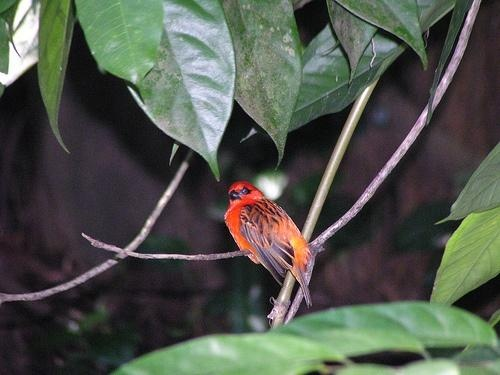bird: (226, 181, 316, 308)
